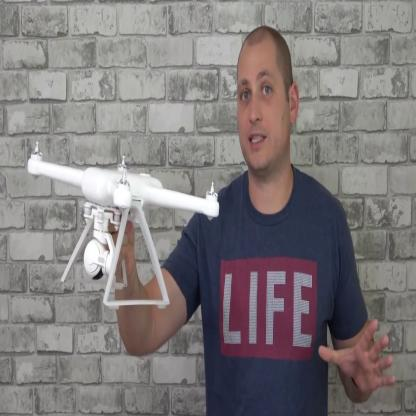drone: (22, 132, 221, 245)
